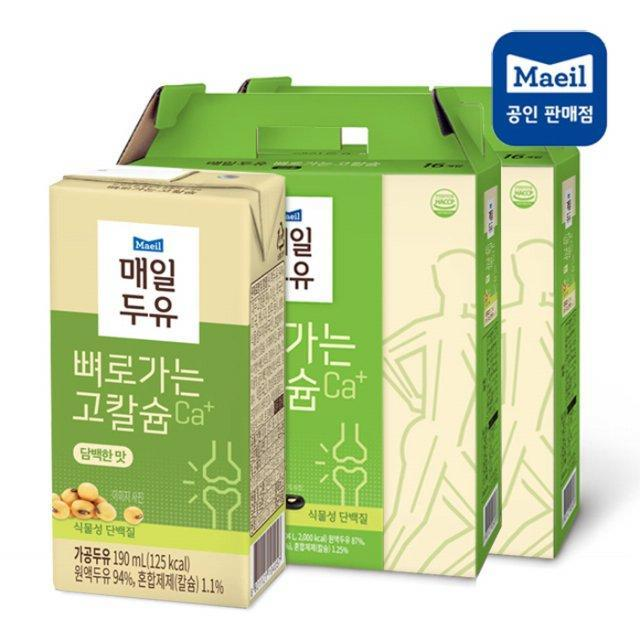Tetra: (33, 136, 285, 612)
